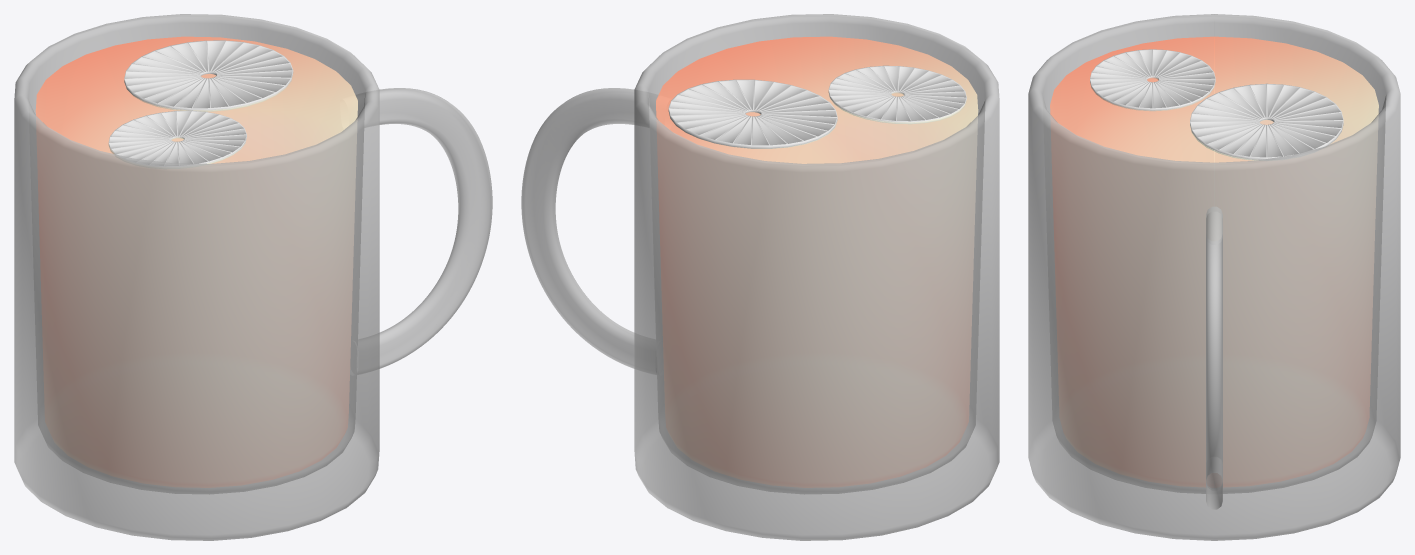
File: Quentao.fbx
3 views of the same model, side by side, from view 1: azimuth 30°, elevation 25°; view 2: azimuth 150°, elevation 25°; view 3: azimuth 270°, elevation 25° (orthographic).
Visible parts, largest first — view 1: Quentão; view 2: Quentão; view 3: Quentão.
Part boxes in pixels (<box>): Quentão: <box>14,14,492,540</box>; Quentão: <box>521,14,999,540</box>; Quentão: <box>1028,14,1400,540</box>.
Size of the model in its own units: 56.85 by 45.33 by 40.42.
